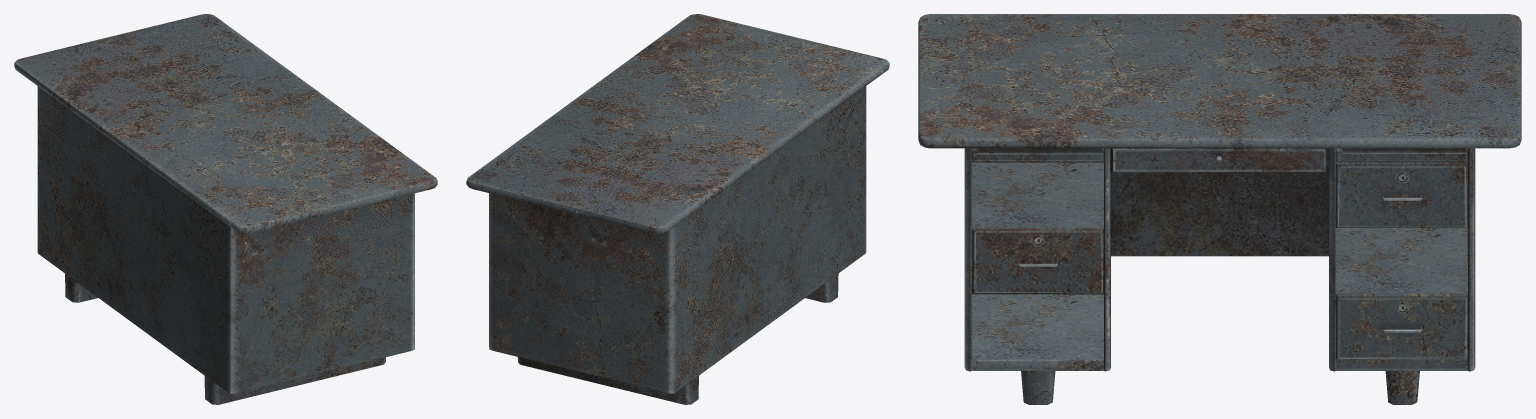
The model's file is SM_INT_DeskMetal.obj.
3 views of the same model, side by side, from view 1: azimuth 30°, elevation 25°; view 2: azimuth 150°, elevation 25°; view 3: azimuth 270°, elevation 25° (orthographic). The views are drawn at different scales.
Parts seen in each view (by area): view 1: SM_INT_DeskMetal; view 2: SM_INT_DeskMetal; view 3: SM_INT_DeskMetal.
Boxes of the visible parts, x1=… form: SM_INT_DeskMetal: x1=14, y1=14, x2=437, y2=404; SM_INT_DeskMetal: x1=466, y1=14, x2=889, y2=404; SM_INT_DeskMetal: x1=918, y1=14, x2=1521, y2=404.
Bounding box in the file's own units: 96 × 96 × 192.
1 material, 1 textured.
